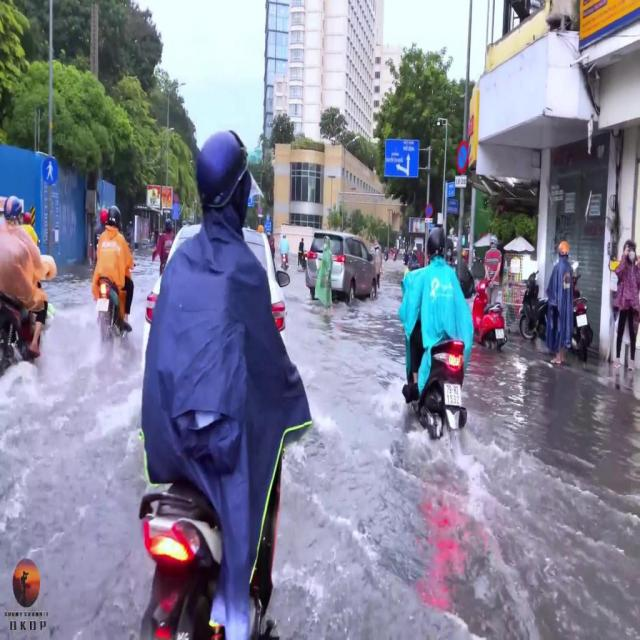cam_do_xe: (456, 141, 469, 173), (425, 204, 433, 218)
duong_cho_nguoi_di_bo: (42, 157, 57, 184)
duong_mot_chieu: (266, 214, 270, 222)
